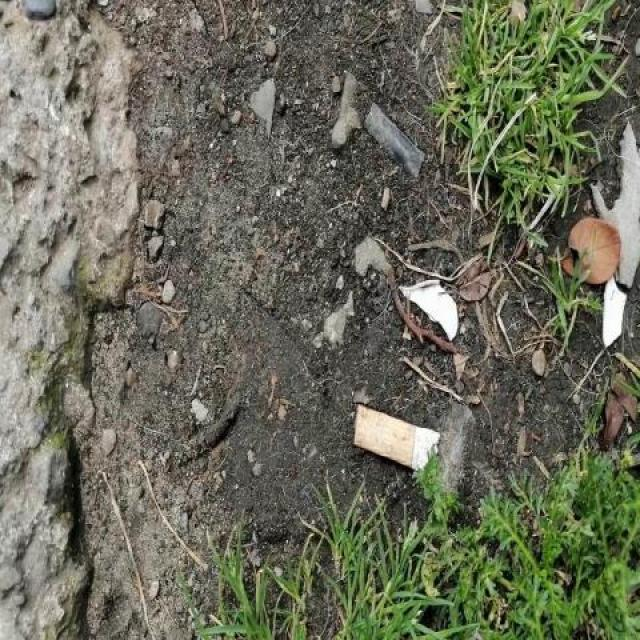non-organic waste: (350, 400, 445, 484)
